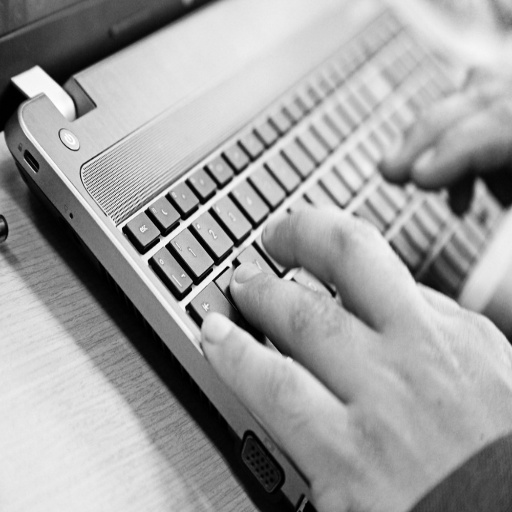hand: (201, 207, 511, 511), (376, 61, 511, 217)
